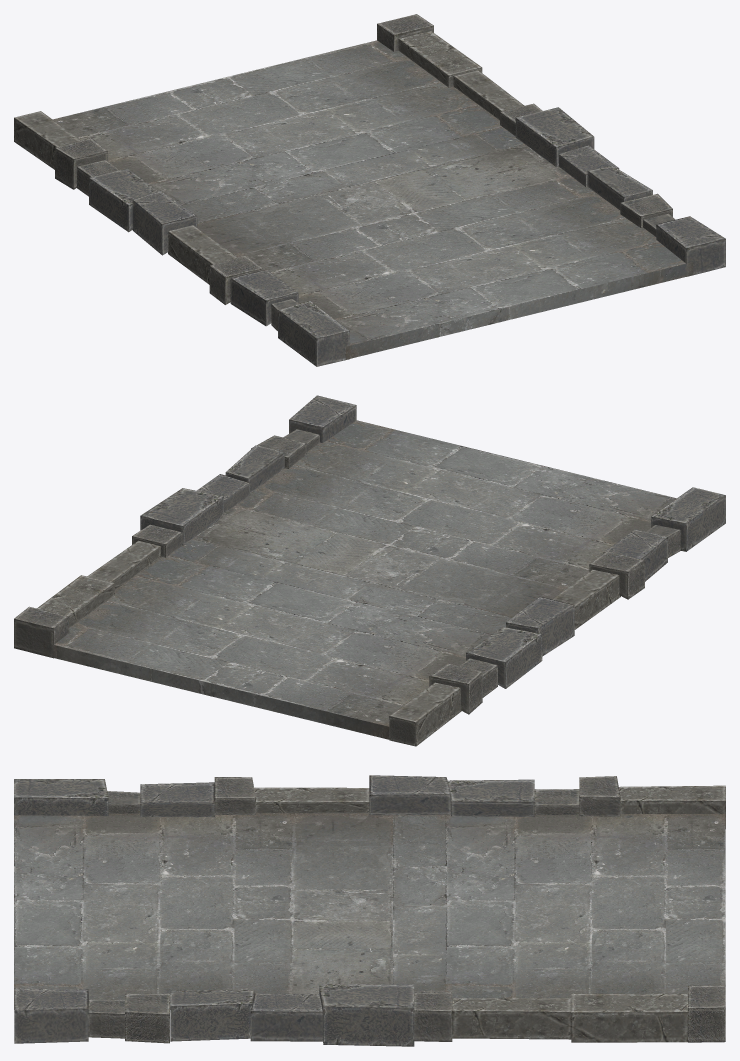
The model's file is bg_lut_lucastle_street02_sm_phs.FBX.
3 views of the same model, one above another, from view 1: azimuth 30°, elevation 25°; view 2: azimuth 150°, elevation 25°; view 3: azimuth 270°, elevation 25° (orthographic). The views are drawn at different scales.
Parts seen in each view (by area): view 1: bg_lut_lucastle_street02_sm_phs; view 2: bg_lut_lucastle_street02_sm_phs; view 3: bg_lut_lucastle_street02_sm_phs.
Boxes of the visible parts, x1,y1,x2,y2 form: bg_lut_lucastle_street02_sm_phs: (14, 14, 725, 366); bg_lut_lucastle_street02_sm_phs: (14, 395, 725, 746); bg_lut_lucastle_street02_sm_phs: (14, 775, 725, 1046).
Size of the model in its own units: 405 by 31.1 by 512.
